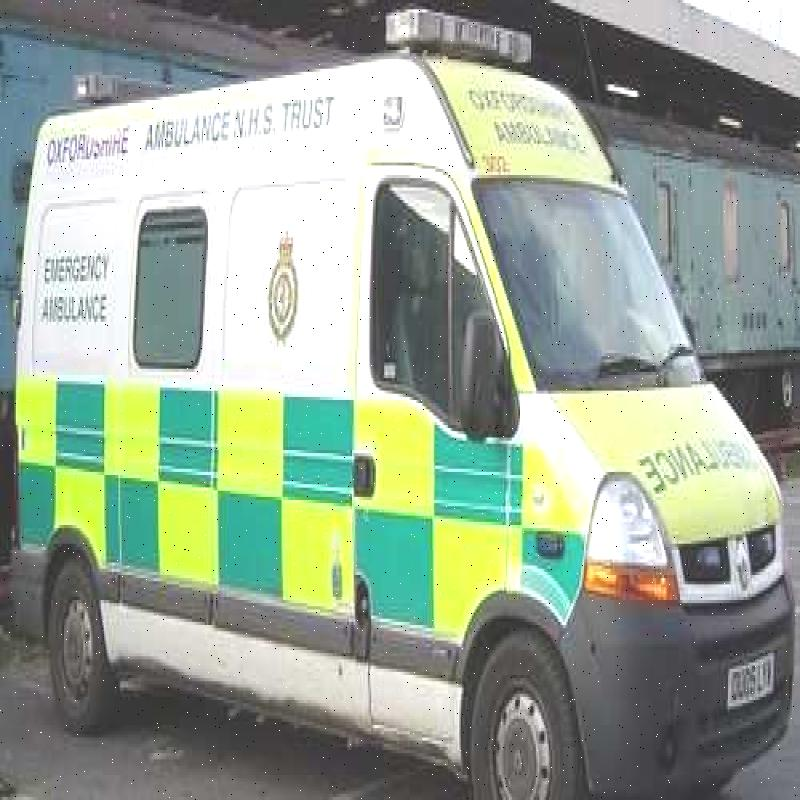AmbulanceSiren: (371, 0, 547, 91)
